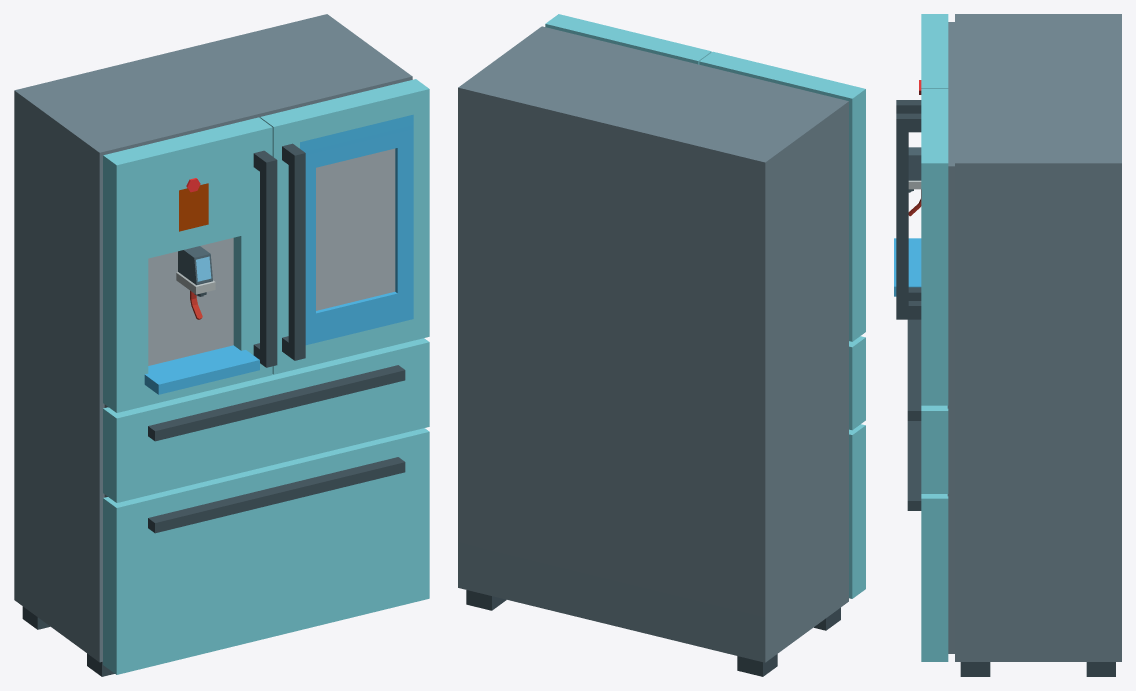
Rendered from Fridge lv3.fbx.
3 renders of one model, left to right at view 1: azimuth 30°, elevation 25°; view 2: azimuth 150°, elevation 25°; view 3: azimuth 270°, elevation 25°, orthographic. The views are drawn at different scales.
Parts seen in each view (by area): view 1: Fridge_lv3; view 2: Fridge_lv3; view 3: Fridge_lv3.
Part boxes in pixels (<box>): Fridge_lv3: <box>14,14,429,676</box>; Fridge_lv3: <box>458,14,865,676</box>; Fridge_lv3: <box>894,14,1121,676</box>.
Bounding box in the file's own units: 178 × 286 × 114.
